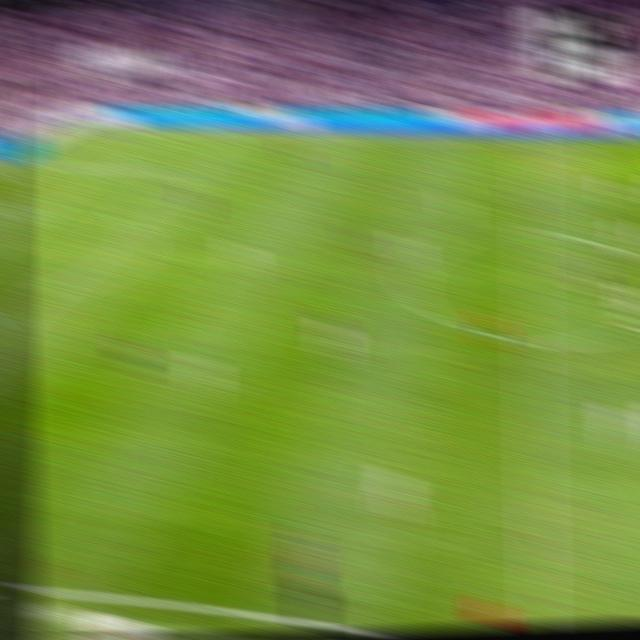bigarea_top_inner: (164, 162, 187, 181)
bigarea_top_outter: (19, 153, 42, 169)
bottom_arc_area_intersection: (33, 279, 60, 301)
corner: (77, 119, 101, 133)
halfcircle_bottom: (518, 326, 546, 356)
halfcircle_top: (515, 218, 545, 245)
midline_top_intersection: (517, 133, 540, 151)
smallarea_top_inner: (9, 197, 32, 211)
top_arc_area_intersection: (113, 208, 137, 226)
